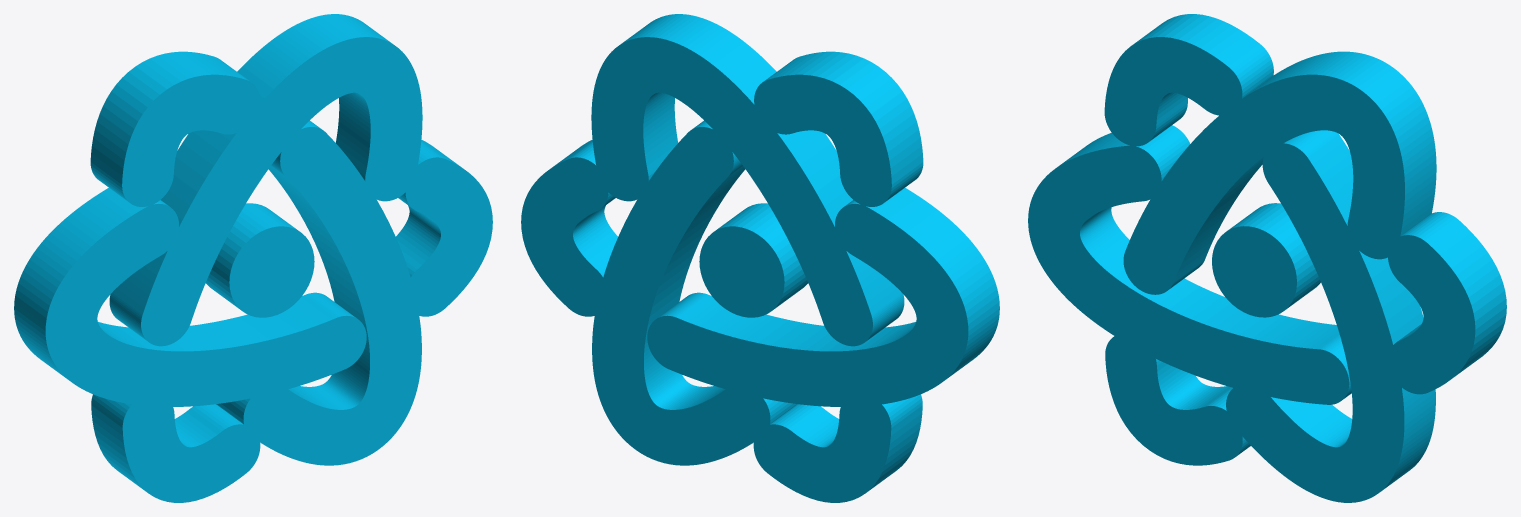
The model's file is reactjs.gltf.
3 views of the same model, side by side, from view 1: azimuth 30°, elevation 25°; view 2: azimuth 150°, elevation 25°; view 3: azimuth 330°, elevation 25° (orthographic).
Bounding box in the file's own units: 0.82 × 0.7427 × 0.1.
